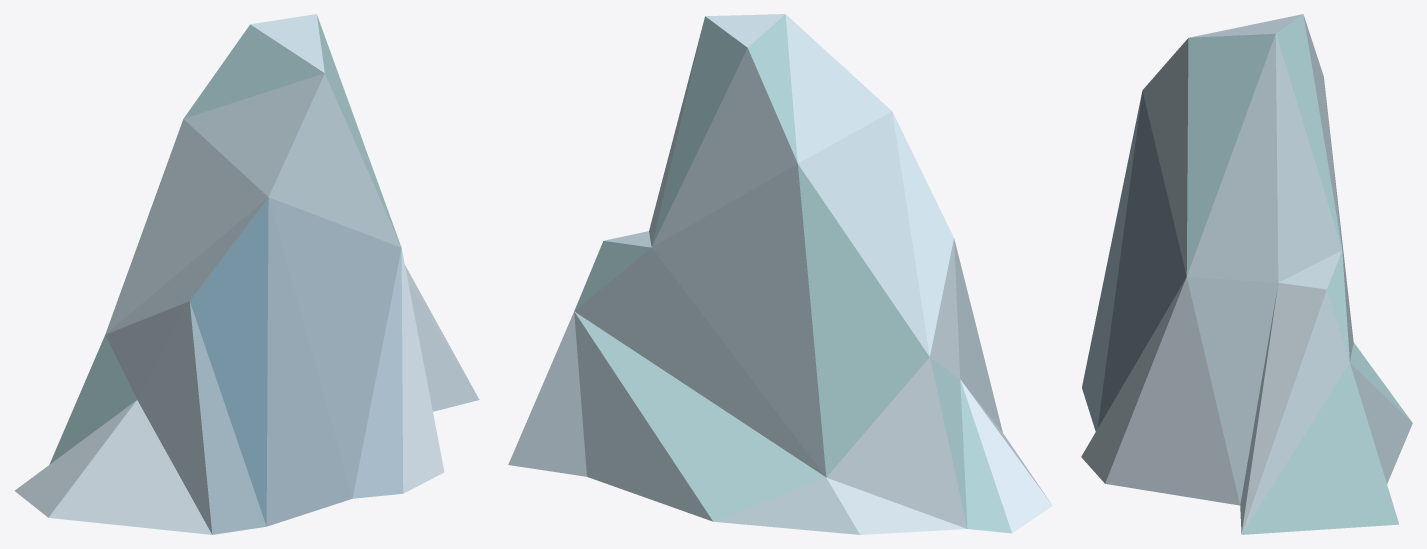
Rendered from Iceberg 5.fbx.
3 views of the same model, side by side, from view 1: azimuth 30°, elevation 25°; view 2: azimuth 150°, elevation 25°; view 3: azimuth 270°, elevation 25° (orthographic). The views are drawn at different scales.
Parts seen in each view (by area): view 1: Iceberg 5; view 2: Iceberg 5; view 3: Iceberg 5.
Boxes of the visible parts, bbox=[...] form: Iceberg 5: bbox=[14, 14, 479, 534]; Iceberg 5: bbox=[508, 14, 1052, 534]; Iceberg 5: bbox=[1081, 14, 1412, 534].
Size of the model in its own units: 5687 by 5012 by 3531.
